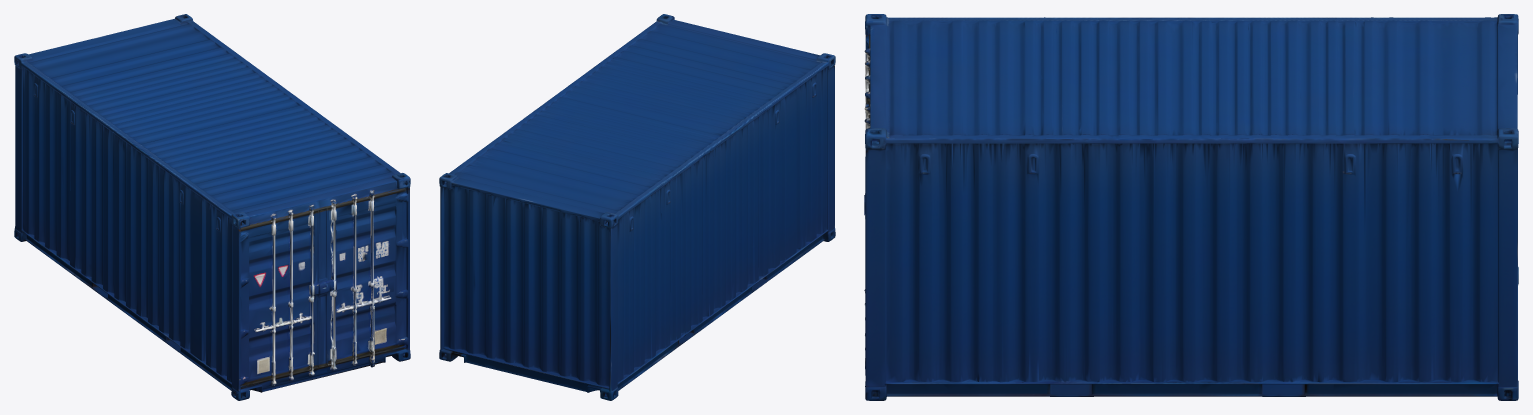
Rendered from container-blue-1.glb.
3 views of the same model, side by side, from view 1: azimuth 30°, elevation 25°; view 2: azimuth 150°, elevation 25°; view 3: azimuth 270°, elevation 25° (orthographic). The views are drawn at different scales.
Parts seen in each view (by area): view 1: node_0; view 2: node_0; view 3: node_0.
Boxes of the visible parts, box(x1,y1,x2,y2) form: node_0: box(14, 14, 410, 400); node_0: box(439, 14, 835, 400); node_0: box(864, 14, 1518, 400).
Bounding box in the file's own units: 0.4519 × 0.4563 × 1.02.
Materials: 1 (1 with a texture image).
